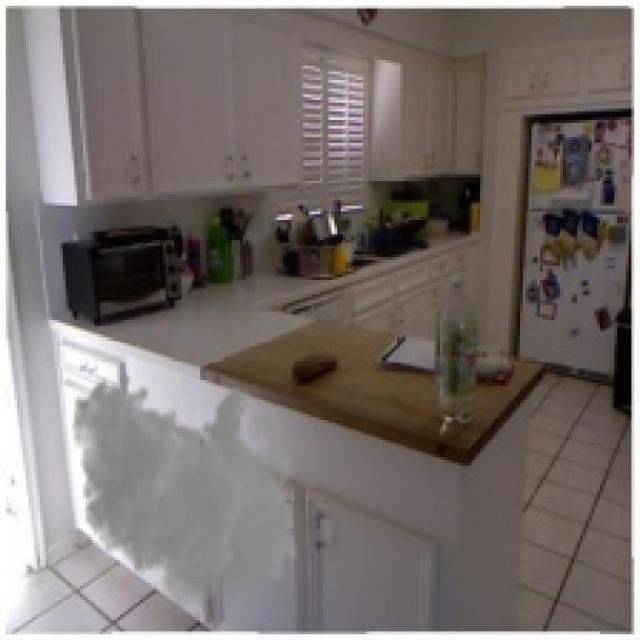smoke: (71, 371, 300, 620)
